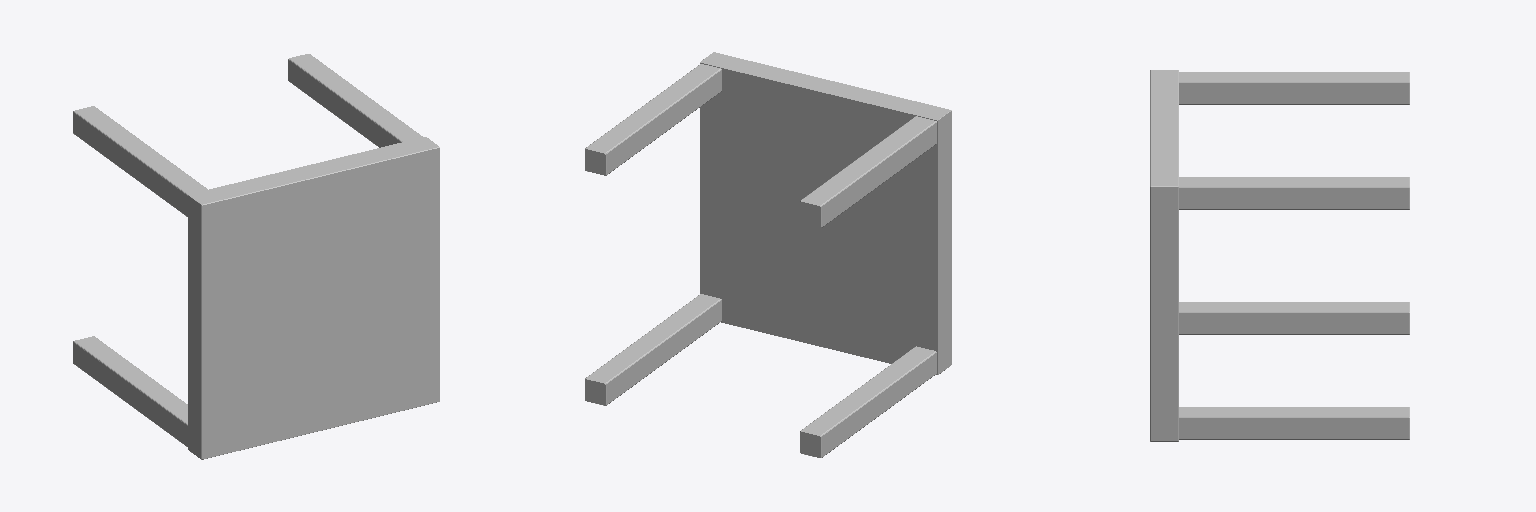
The model's file is square_table.obj.
3 views of the same model, side by side, from view 1: azimuth 30°, elevation 25°; view 2: azimuth 150°, elevation 25°; view 3: azimuth 270°, elevation 25° (orthographic).
Visible parts, largest first — view 1: Table_Carre; view 2: Table_Carre; view 3: Table_Carre.
Boxes of the visible parts, box(x1,y1,x2,y2) form: Table_Carre: box(73, 54, 439, 459); Table_Carre: box(585, 52, 951, 457); Table_Carre: box(1150, 70, 1409, 441).
Bounding box in the file's own units: 0.99 × 1.01 × 0.936.